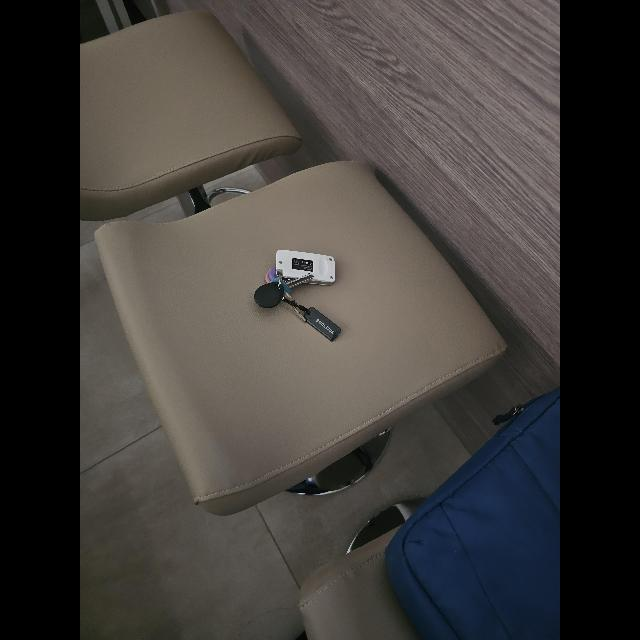Keys: (251, 253, 341, 343)
